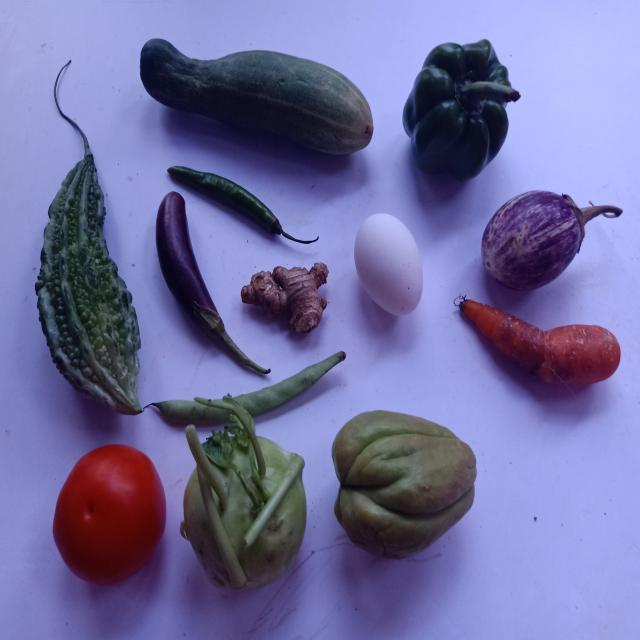Beans: (233, 351, 346, 415), (150, 400, 230, 426)
Bitter Gourd: (34, 61, 141, 415)
Brinjal: (155, 192, 267, 373)
Capsicum: (403, 38, 520, 179)
Carrot: (460, 300, 622, 385)
Chayote: (324, 400, 497, 565)
Cucumber: (140, 38, 373, 153)
Egg: (354, 213, 423, 315)
Eggplant: (482, 190, 623, 289)
Ginger: (241, 262, 328, 332)
Green Chilly: (167, 166, 319, 244)
Tomato: (52, 445, 165, 586)
Turnip: (181, 396, 306, 590)
